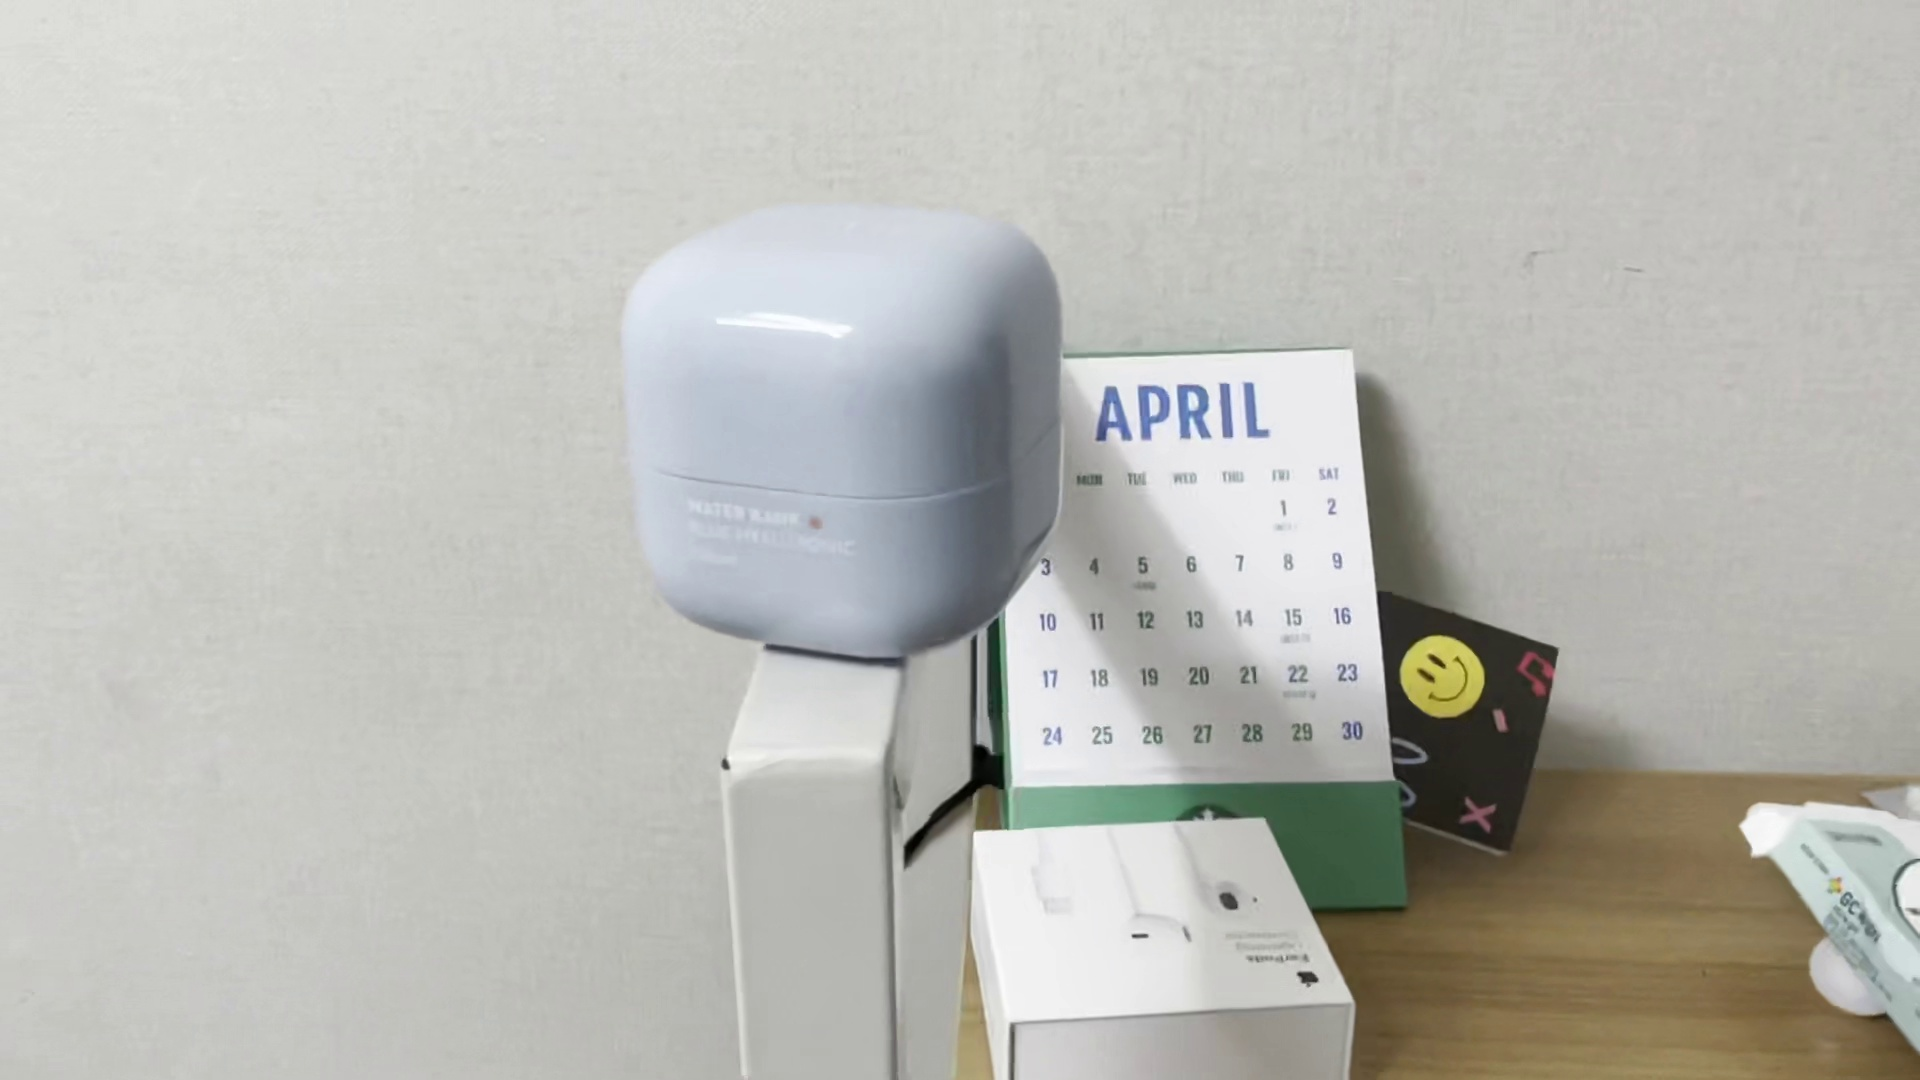cream: (622, 200, 1069, 659)
